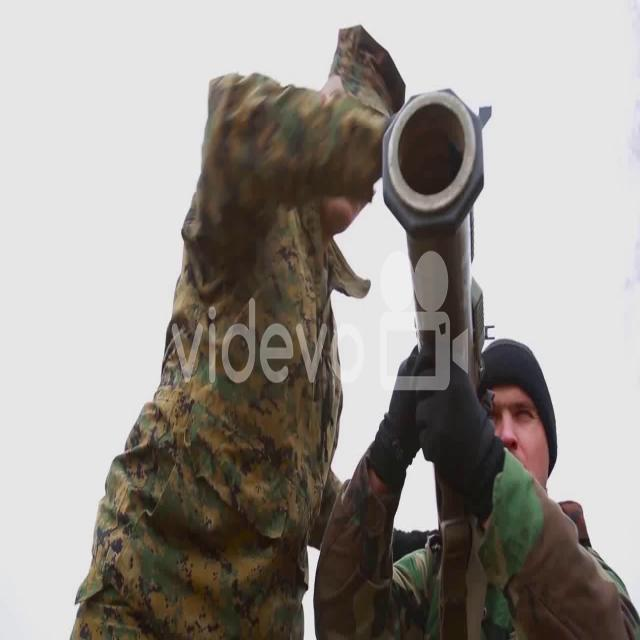bazooka: (373, 80, 504, 586)
